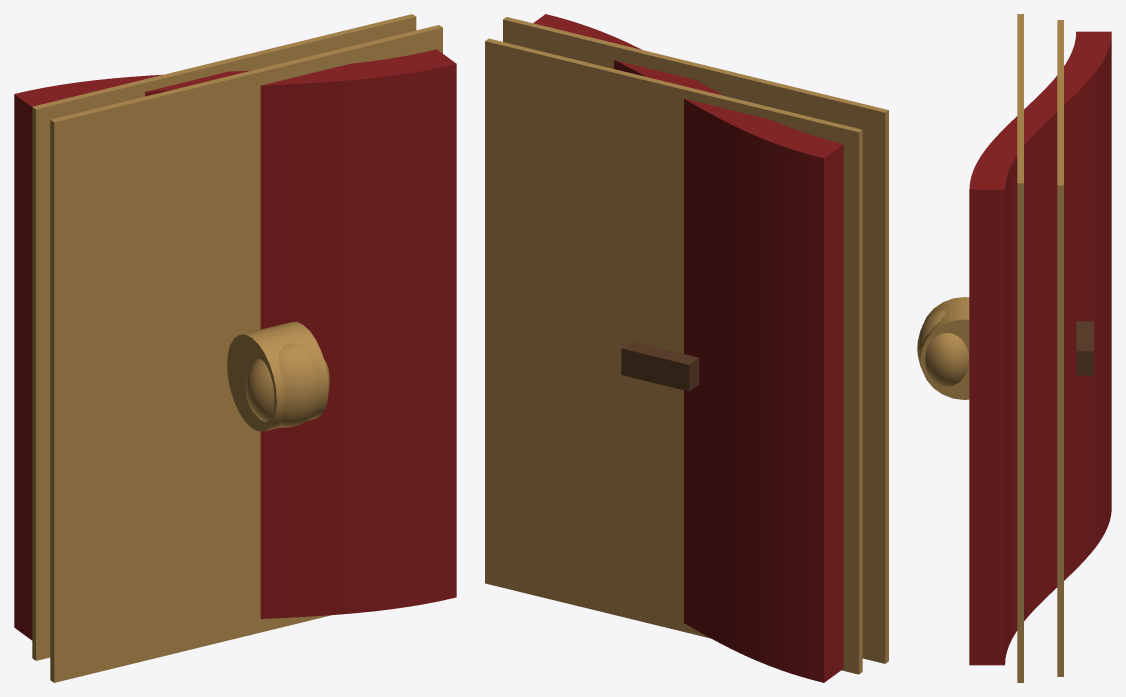
Rendered from scutum.glb.
3 views of the same model, side by side, from view 1: azimuth 30°, elevation 25°; view 2: azimuth 150°, elevation 25°; view 3: azimuth 270°, elevation 25° (orthographic). The views are drawn at different scales.
Parts seen in each view (by area): view 1: Scutum; view 2: Scutum; view 3: Scutum.
Boxes of the visible parts, <box> form: Scutum: <box>14,14,456,682</box>; Scutum: <box>485,14,888,682</box>; Scutum: <box>917,14,1111,682</box>.
Bounding box in the file's own units: 0.9 × 1.24 × 0.4375.
